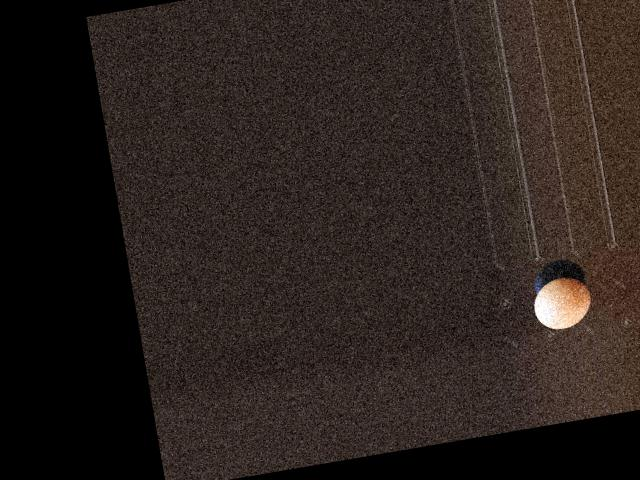egg: (529, 272, 595, 332)
